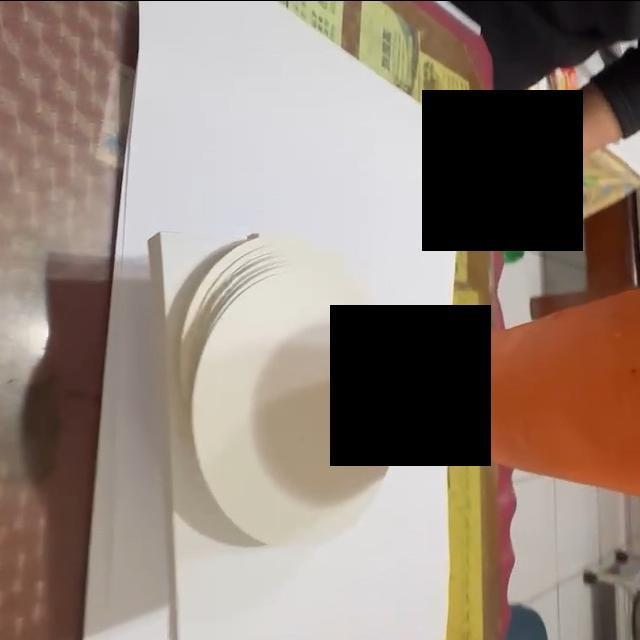carrot: (394, 281, 640, 505)
